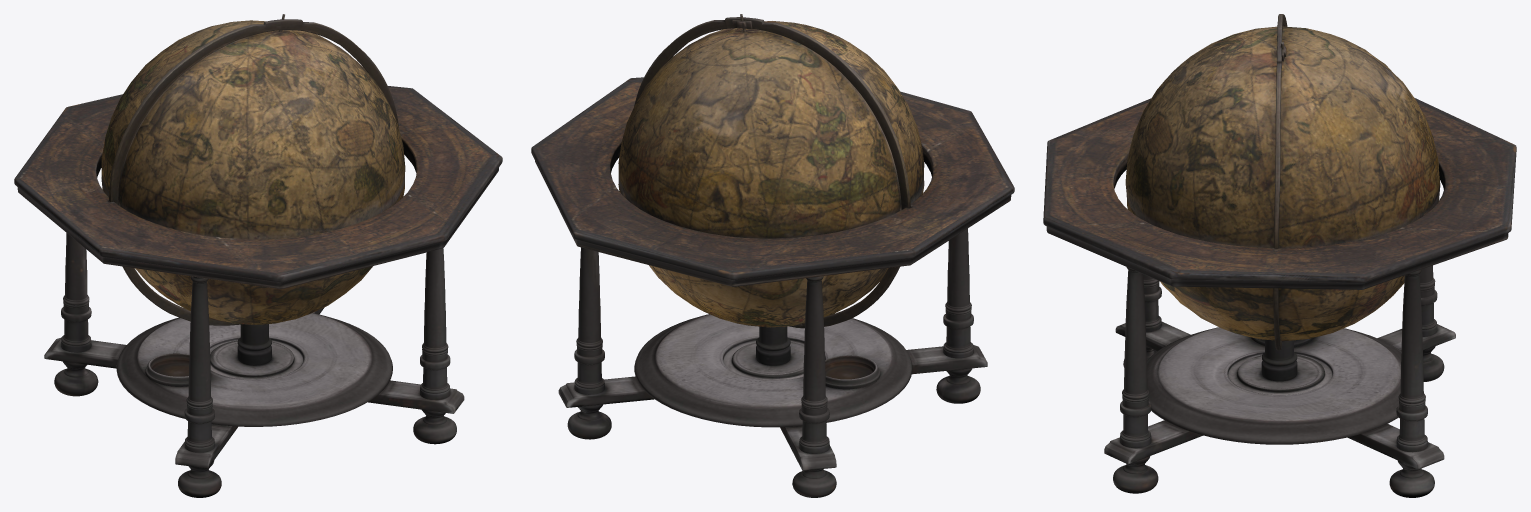
3 renders of one model, left to right at view 1: azimuth 30°, elevation 25°; view 2: azimuth 150°, elevation 25°; view 3: azimuth 270°, elevation 25°, orthographic. The views are drawn at different scales.
Visible parts, largest first — view 1: Object_2, Object_3, Object_4, Object_10, Object_6, Object_5, Object_11, Object_7, Object_9; view 2: Object_2, Object_3, Object_4, Object_10, Object_7, Object_8, Object_11, Object_6, Object_9; view 3: Object_2, Object_3, Object_4, Object_8, Object_5, Object_11, Object_10, Object_7, Object_9, Object_6.
Part boxes in pixels (box(x1,y1,x2,y2)): Object_2: box(101, 20, 405, 324); Object_3: box(14, 86, 502, 288); Object_4: box(116, 313, 392, 426); Object_10: box(109, 19, 398, 325); Object_6: box(178, 276, 221, 497); Object_5: box(413, 248, 456, 444); Object_11: box(44, 307, 464, 468); Object_7: box(54, 233, 98, 396); Object_9: box(145, 14, 284, 386); Object_2: box(618, 21, 924, 327); Object_3: box(531, 77, 1014, 286); Object_4: box(634, 314, 912, 427); Object_10: box(634, 17, 910, 328); Object_7: box(792, 276, 836, 497); Object_8: box(567, 247, 611, 439); Object_11: box(558, 345, 987, 470); Object_6: box(936, 228, 980, 403); Object_9: box(740, 14, 880, 389); Object_2: box(1125, 26, 1440, 340); Object_3: box(1043, 98, 1516, 289); Object_4: box(1147, 327, 1401, 444); Object_8: box(1389, 269, 1434, 497); Object_5: box(1113, 267, 1158, 493); Object_11: box(1104, 321, 1455, 469); Object_10: box(1273, 14, 1287, 350); Object_7: box(1419, 265, 1444, 381); Object_9: box(1251, 42, 1313, 381); Object_6: box(1123, 274, 1161, 367).
Bounding box in the file's own units: 0.7267 × 0.6886 × 0.727.
6 materials, 6 textured.
